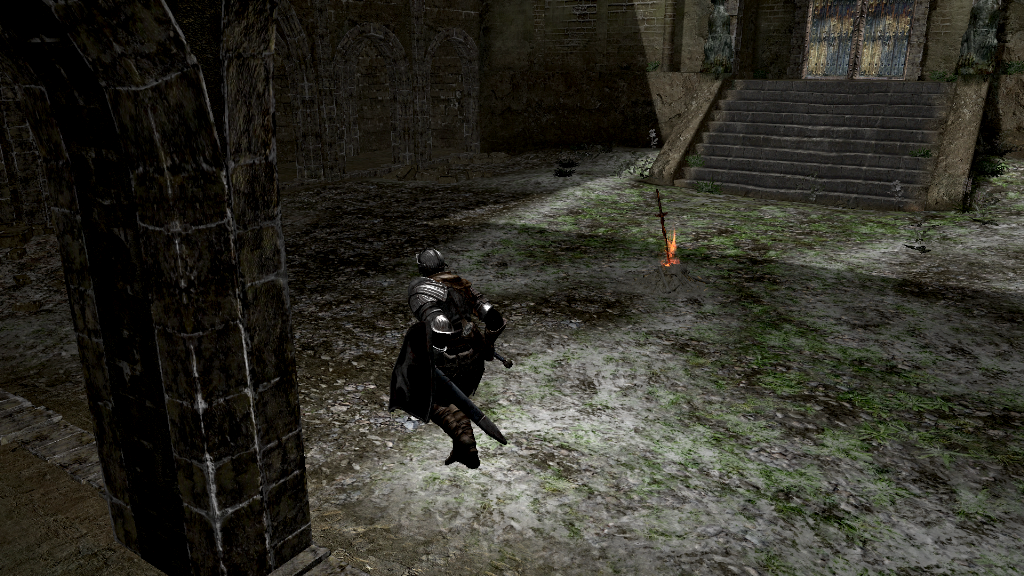bonfire: (645, 187, 693, 281)
player: (386, 246, 515, 471)
